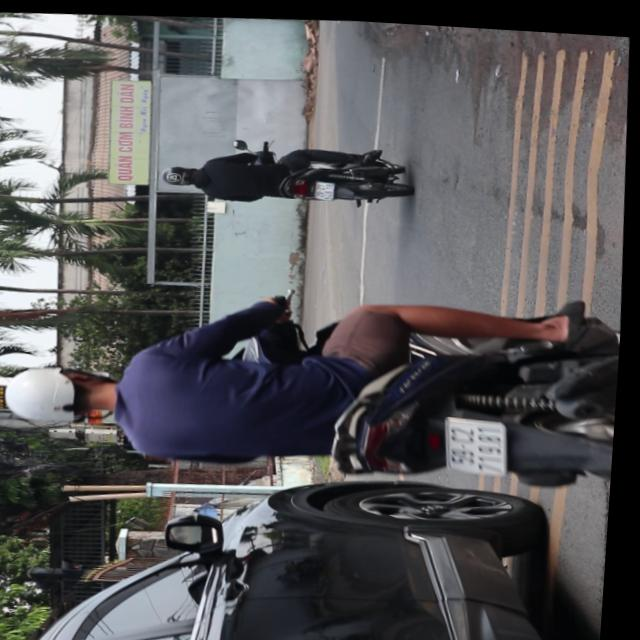helmet: (4, 359, 127, 430), (161, 162, 200, 185)
licenseplate: (0, 258, 627, 507), (158, 130, 416, 215)
nohelmet: (448, 408, 512, 470), (316, 176, 337, 196)
